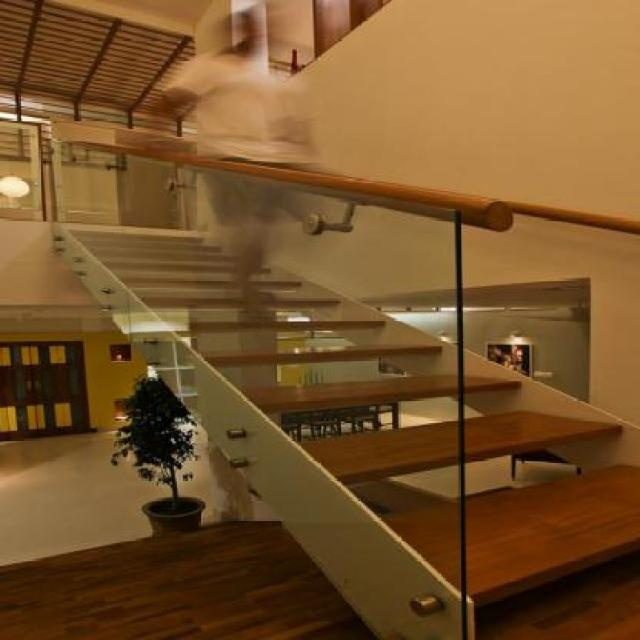stair: (1, 123, 638, 637)
